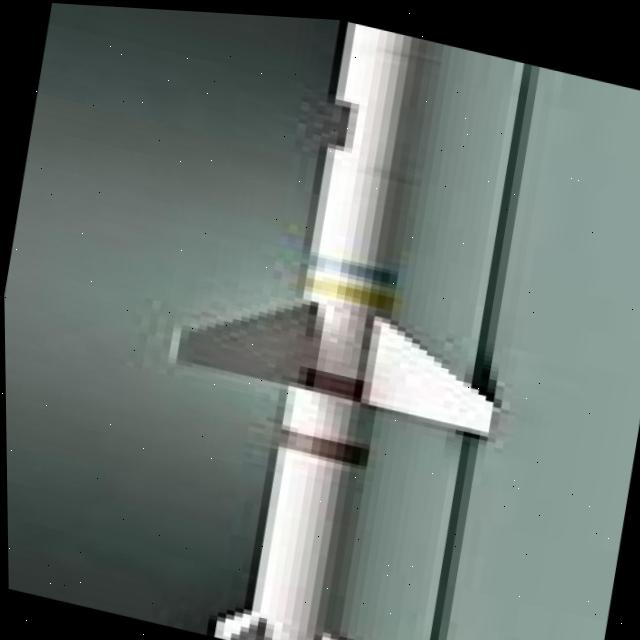missile: (120, 6, 551, 640)
